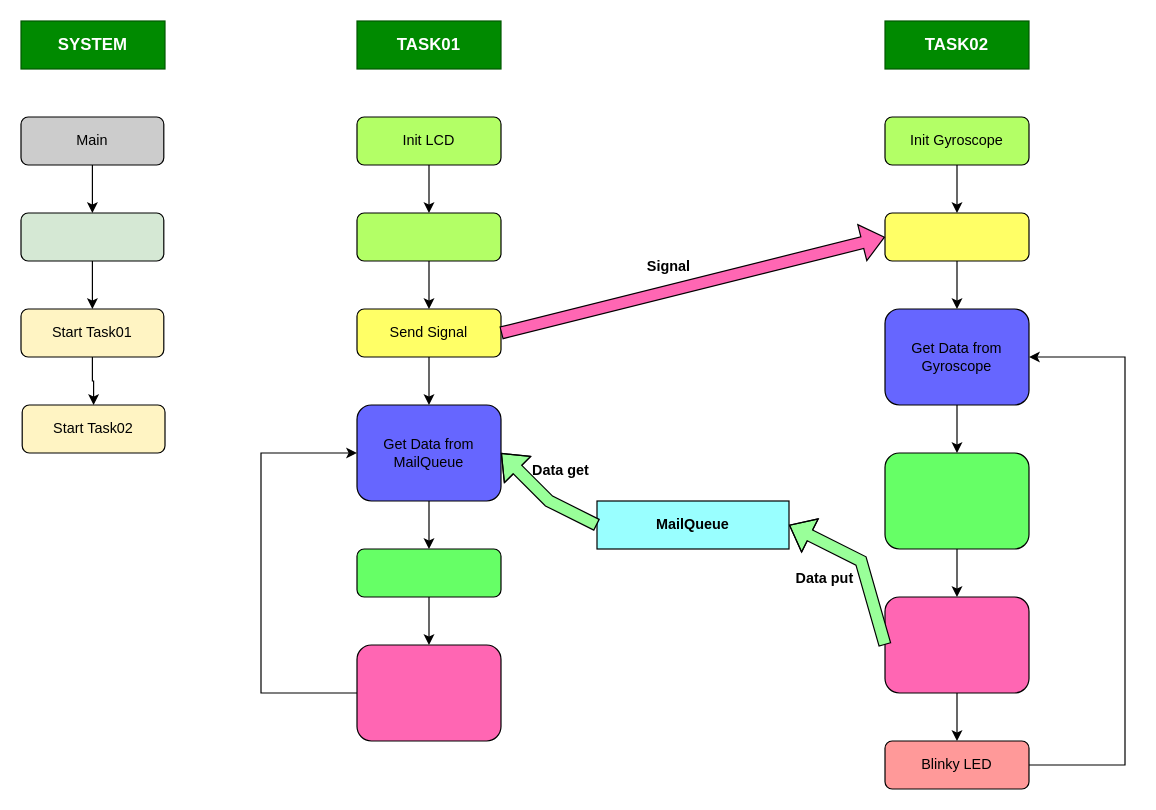
Some shapes in this 1156 by 810 pixel diagram are drawn without their labels. Each missing label, with the centre of its shape:
"Create Task01,02" belongs at point (92, 236).
"Data processing (R, O(a,b), point...) based on Gyroscope data" belongs at point (956, 500).
"Display LCD" belongs at point (428, 572).
"Init USB" belongs at point (428, 236).
"Send Data to MailQueue" belongs at point (956, 644).
"Send Data to USB Host (Virtual Com Port)" belongs at point (428, 692).
"Wait for Signal" belongs at point (956, 236).
